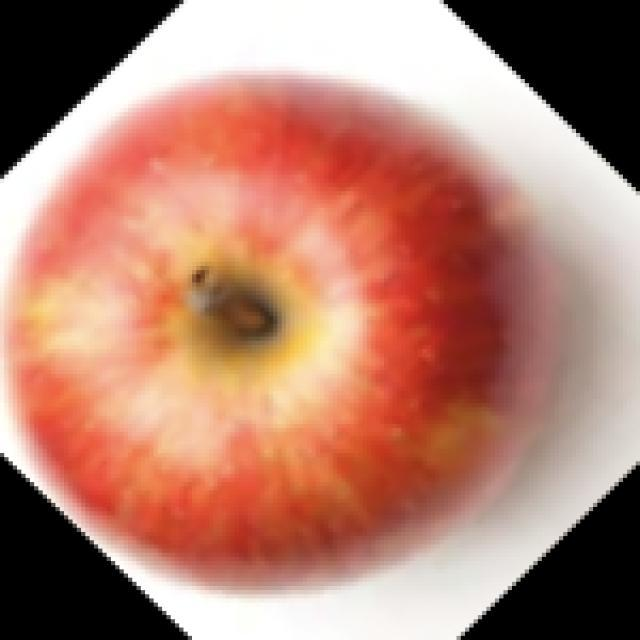Apple: (5, 68, 557, 581)
